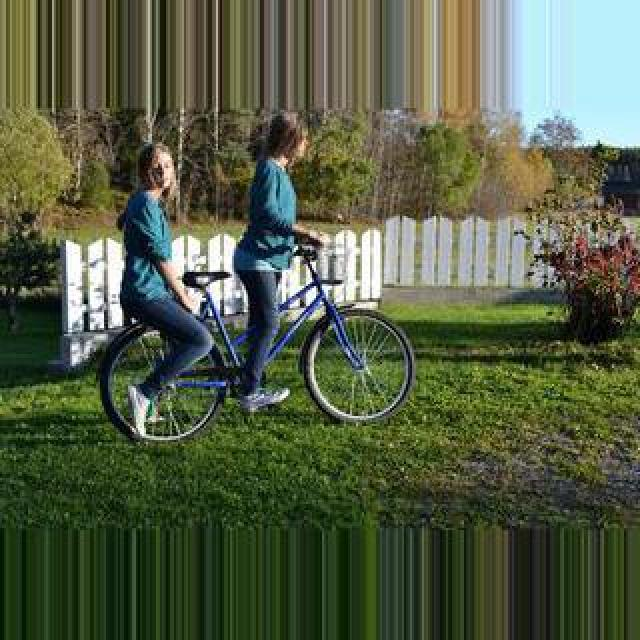MC-Bike: (230, 110, 322, 410), (118, 142, 212, 430)
Person: (89, 237, 421, 437)
